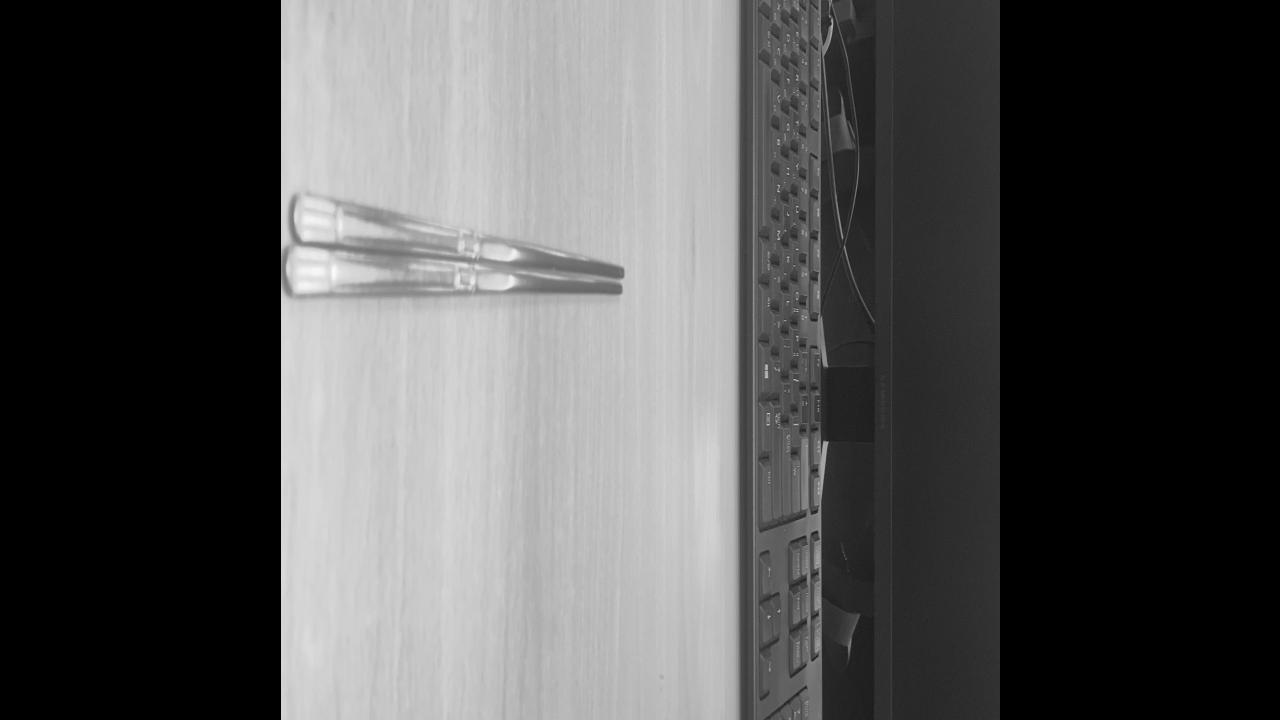chopstick: (286, 196, 624, 294)
